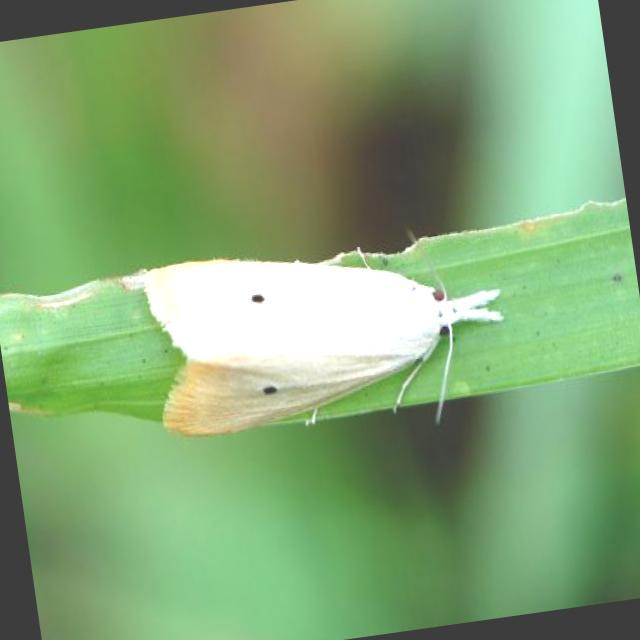stem borer: (132, 260, 500, 434)
